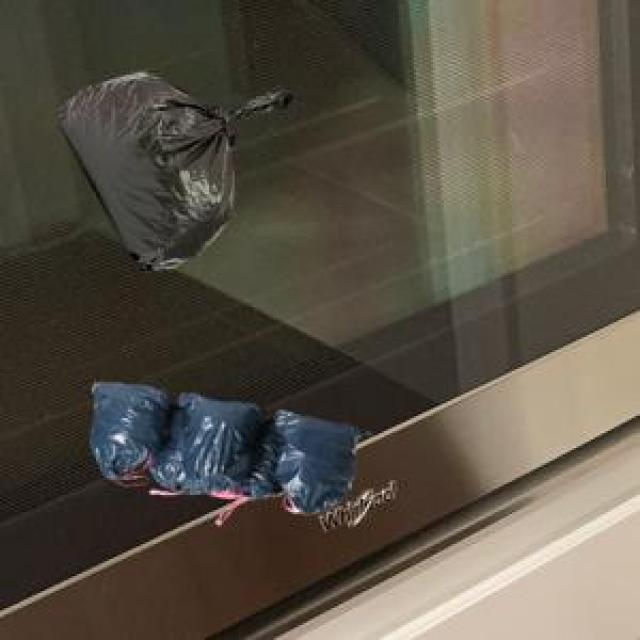waste: (61, 72, 292, 271), (90, 385, 360, 512)
